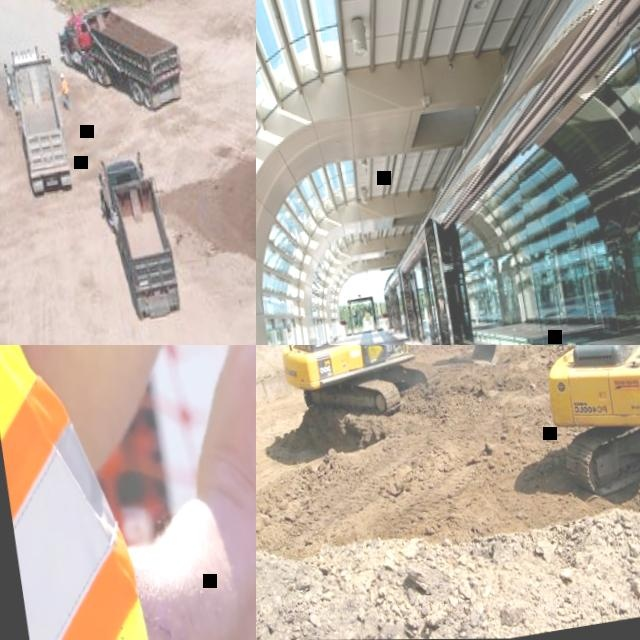Hardhat: (60, 72, 65, 79)
Person: (0, 345, 256, 640), (58, 72, 74, 111)
Safety Vest: (0, 345, 165, 640), (60, 80, 69, 96)
machinery: (499, 345, 640, 539), (260, 345, 520, 430), (52, 0, 189, 125), (92, 147, 187, 327), (0, 43, 77, 200)
